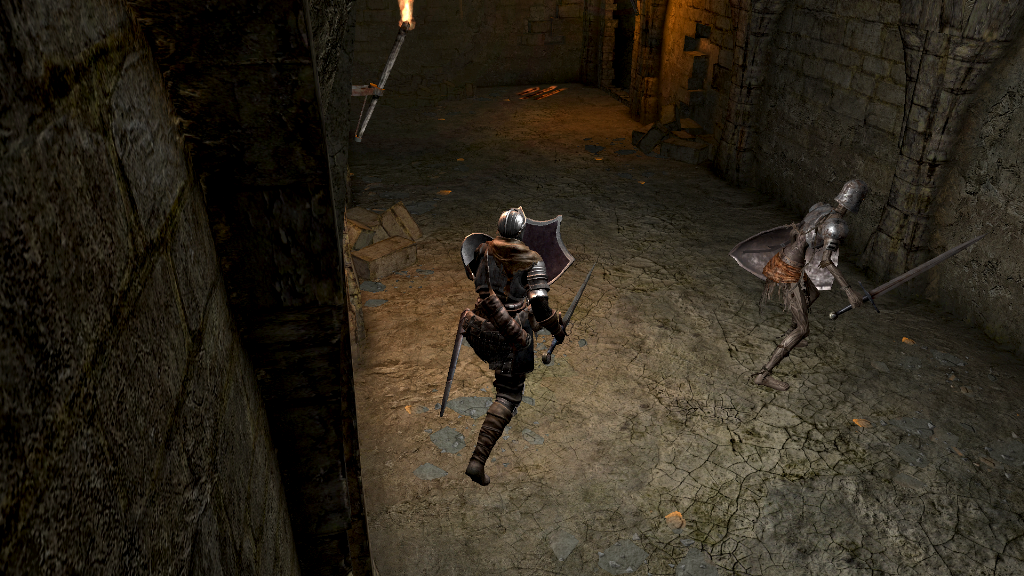player: (456, 204, 595, 486)
undeadSoldier: (748, 178, 865, 392)
